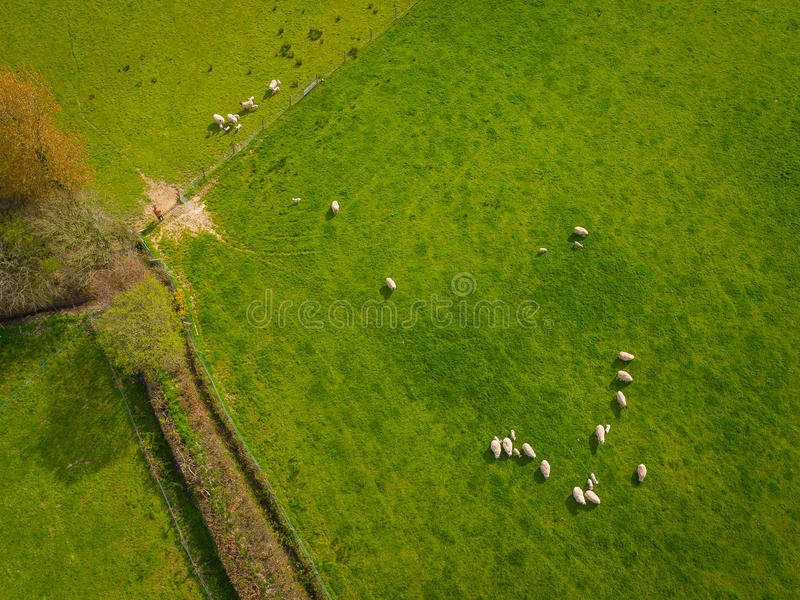sheep: (486, 437, 503, 458), (635, 462, 650, 484), (616, 370, 636, 386), (538, 458, 552, 480), (585, 487, 601, 505), (518, 440, 534, 458), (384, 276, 399, 294), (571, 488, 584, 508), (617, 392, 629, 413), (617, 350, 635, 363), (500, 438, 515, 453), (211, 114, 226, 129), (330, 199, 341, 217), (574, 225, 590, 237), (597, 427, 606, 448), (228, 114, 240, 126), (590, 473, 599, 488), (574, 240, 584, 252), (239, 100, 254, 108), (513, 448, 523, 459), (291, 196, 302, 206), (585, 478, 595, 488), (268, 79, 277, 89), (272, 87, 280, 95), (510, 429, 517, 438), (538, 246, 548, 252), (253, 104, 261, 111), (224, 126, 231, 134), (607, 425, 613, 434), (231, 114, 240, 120), (276, 79, 283, 85), (236, 124, 242, 130), (248, 95, 253, 101)
